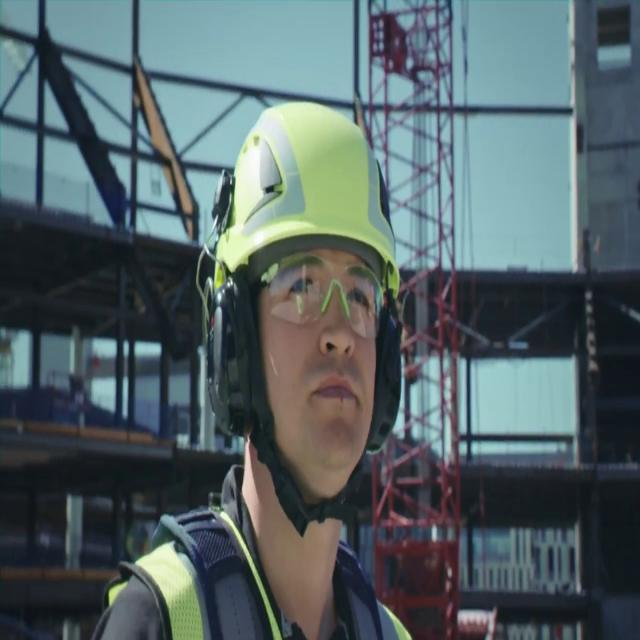earmuff: (212, 273, 252, 417)
glasses: (275, 263, 367, 328)
helmet: (243, 125, 360, 202)
